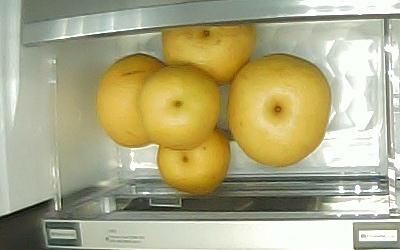pear: (226, 53, 331, 166), (140, 64, 220, 151), (96, 53, 167, 148), (160, 23, 255, 84), (156, 129, 230, 195)
